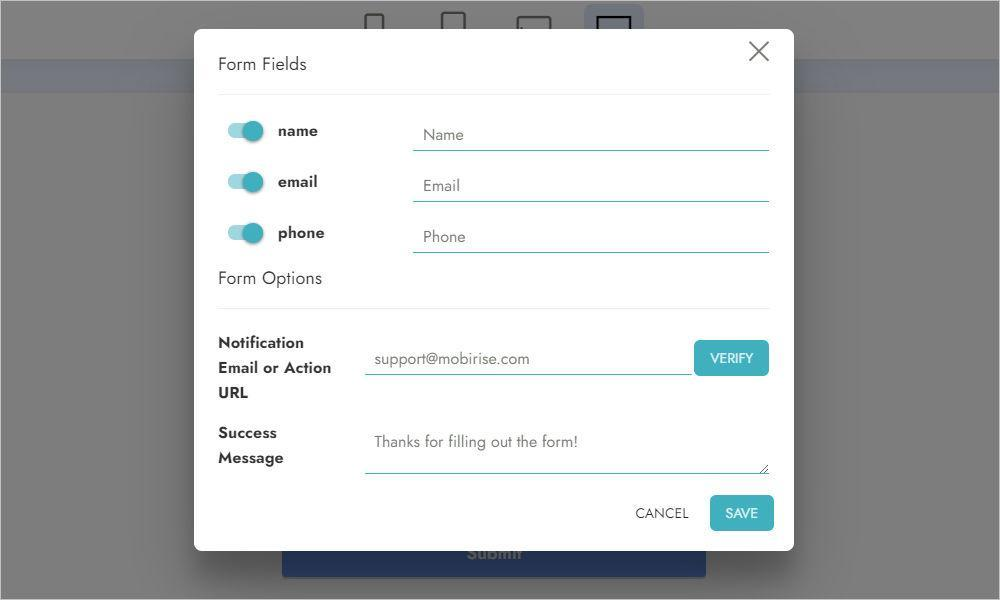button: (695, 341, 770, 376), (710, 495, 775, 534)
icon: (747, 40, 774, 65)
label: (215, 334, 335, 405), (217, 423, 291, 469), (213, 268, 325, 291), (217, 54, 312, 74), (635, 506, 691, 524), (277, 226, 327, 245), (278, 173, 324, 192), (275, 125, 321, 141)
switch: (224, 172, 265, 196), (229, 119, 265, 145), (229, 223, 264, 247)
